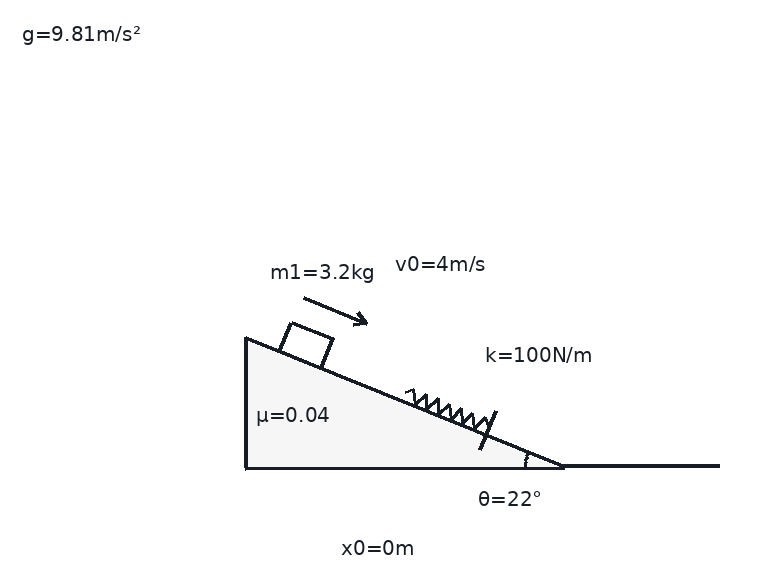block: (277, 320, 334, 370)
ramp: (243, 336, 567, 469)
spring: (403, 387, 490, 430)
